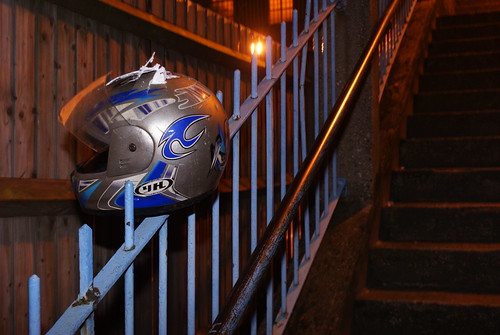helmet: (61, 60, 224, 217)
